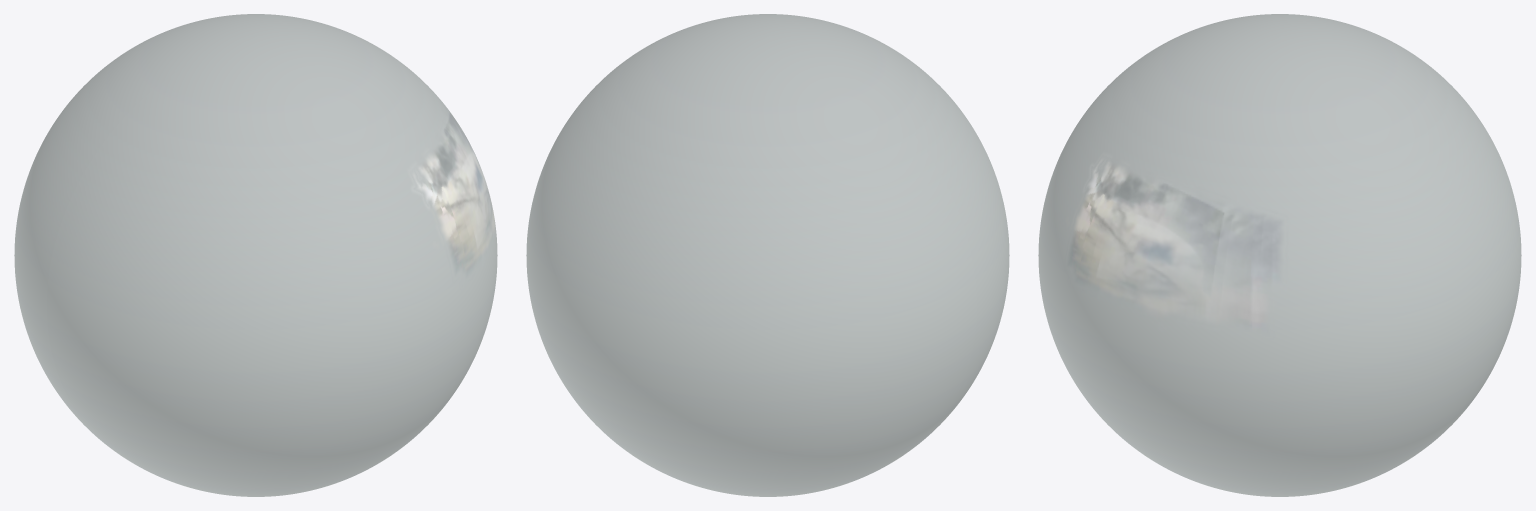
3 views of the same model, side by side, from view 1: azimuth 30°, elevation 25°; view 2: azimuth 150°, elevation 25°; view 3: azimuth 270°, elevation 25° (orthographic).
Visible parts, largest first — view 1: ObservedSky_VisualOnly; view 2: ObservedSky_VisualOnly; view 3: ObservedSky_VisualOnly.
Boxes of the visible parts, <box> form: ObservedSky_VisualOnly: <box>14,14,497,496</box>; ObservedSky_VisualOnly: <box>526,14,1009,496</box>; ObservedSky_VisualOnly: <box>1038,14,1521,496</box>.
Bounding box in the file's own units: 800 × 800 × 800.
54 materials, 24 textured.
